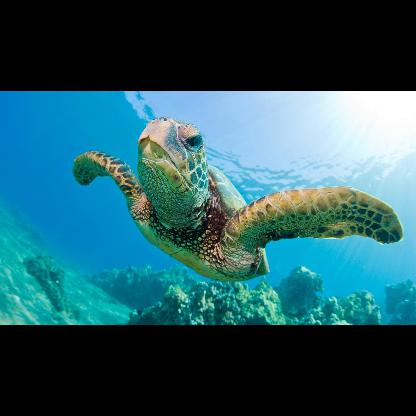turtle: (74, 114, 404, 282)
